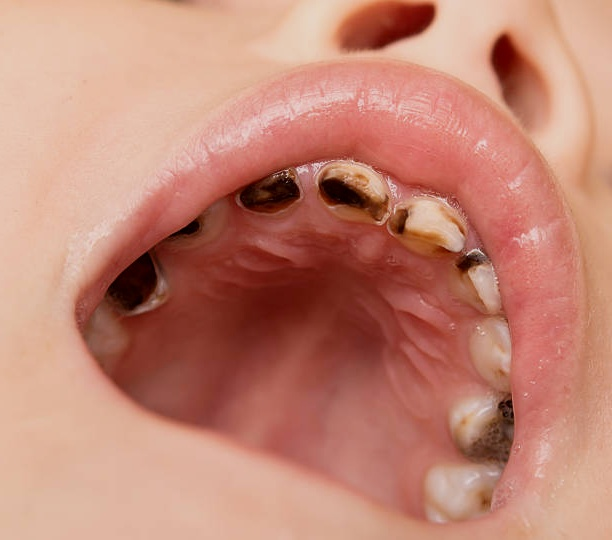Caries: (307, 158, 394, 231), (101, 254, 165, 315), (233, 168, 305, 219), (365, 195, 426, 248), (489, 383, 521, 450), (462, 422, 513, 464), (450, 244, 494, 278), (169, 212, 202, 241)
